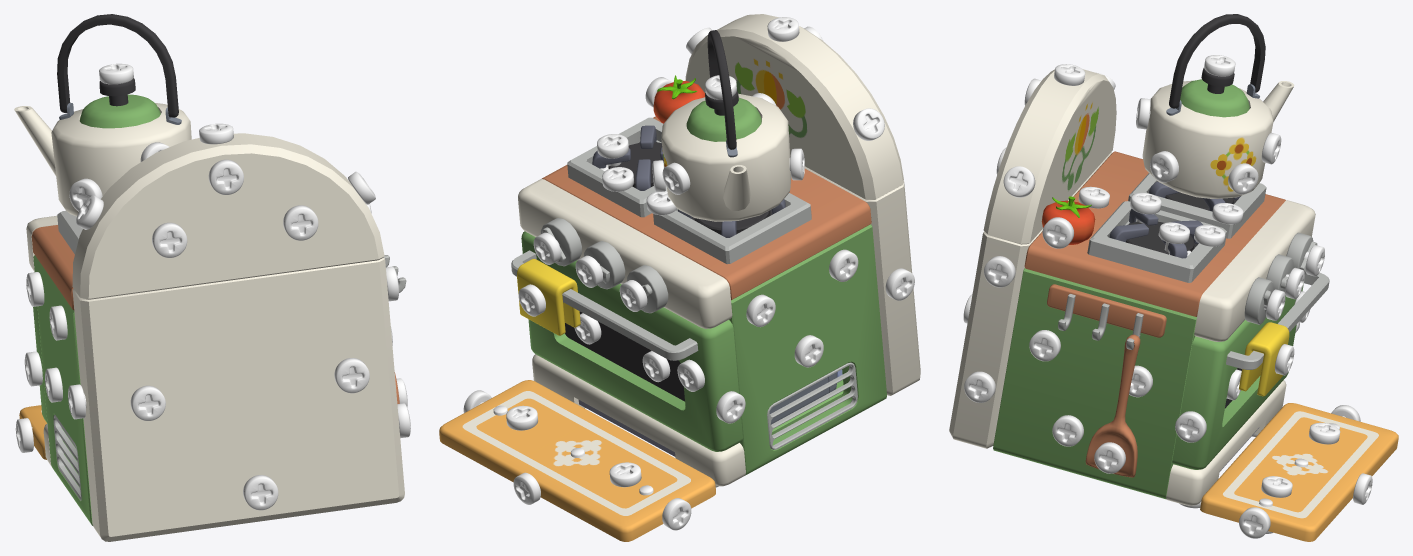
File: Kettle_GroupD.fbx
The picture shows the model from 3 angles, left to right: view 1: azimuth 30°, elevation 25°; view 2: azimuth 150°, elevation 25°; view 3: azimuth 270°, elevation 25°; orthographic projection. The views are drawn at different scales.
Visible parts, largest first — view 1: Kettle_032, Kettle_017, Screw (×16), Kettle_026, Kettle_005, Kettle_025, Kettle_004, Kettle_014, Kettle_024, Kettle_001, Kettle_002; view 2: Kettle_005, Kettle_002, Kettle_014, Kettle_017, Screw (×21), Kettle_026, Kettle_004, Kettle_001, Kettle_032, Kettle_003, Kettle_024, Kettle_010 (+6 smaller); view 3: Kettle_015, Screw (×21), Kettle_014, Kettle_017, Kettle_026, Kettle_002, Kettle_004, Kettle_032, Kettle_001, Kettle_010, Kettle_003, Kettle_024 (+6 smaller).
Part boxes in pixels (x1,y1,x2,y2): Kettle_032: (72, 257, 404, 541); Kettle_017: (72, 133, 384, 299); Screw (×16): (15, 63, 369, 510); Kettle_026: (14, 14, 191, 216); Kettle_005: (33, 255, 92, 525); Kettle_025: (79, 78, 160, 128); Kettle_004: (31, 225, 74, 310); Kettle_014: (19, 405, 46, 459); Kettle_024: (57, 210, 82, 254); Kettle_001: (26, 215, 57, 271); Kettle_002: (33, 306, 47, 423); Kettle_005: (729, 224, 886, 475); Kettle_002: (511, 231, 742, 451); Kettle_014: (439, 380, 715, 541); Kettle_017: (685, 14, 903, 199); Screw (×21): (506, 17, 914, 530); Kettle_026: (661, 30, 791, 221); Kettle_004: (542, 116, 871, 300); Kettle_001: (518, 179, 732, 328); Kettle_032: (804, 166, 920, 395); Kettle_003: (532, 354, 745, 486); Kettle_024: (653, 193, 811, 264); Kettle_010: (567, 117, 667, 217); Kettle_015: (993, 268, 1196, 499); Screw (×21): (964, 55, 1340, 538); Kettle_014: (1200, 403, 1398, 541); Kettle_017: (983, 69, 1116, 244); Kettle_026: (1142, 14, 1294, 198); Kettle_002: (1172, 272, 1329, 469); Kettle_004: (1024, 151, 1285, 316); Kettle_032: (949, 151, 1112, 448); Kettle_001: (1194, 200, 1315, 341); Kettle_010: (1087, 201, 1226, 282); Kettle_003: (1166, 380, 1286, 505); Kettle_024: (1128, 173, 1266, 238).
Bounding box in the file's own units: 9 × 10.87 × 10.26.
Materials: 3 (2 with a texture image).
